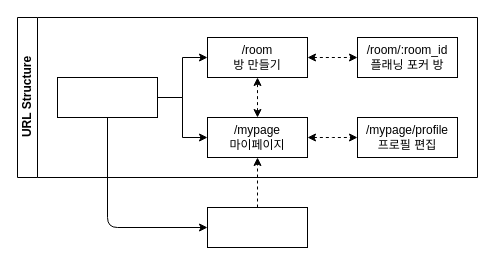
Some shapes in this 495 by 265 pixel diagram are drawn without their labels. The centre of each missing label's shape, as x and y in pixels:
"/ 메인" goes at (107,97).
"/login 로그인" goes at (257,227).
